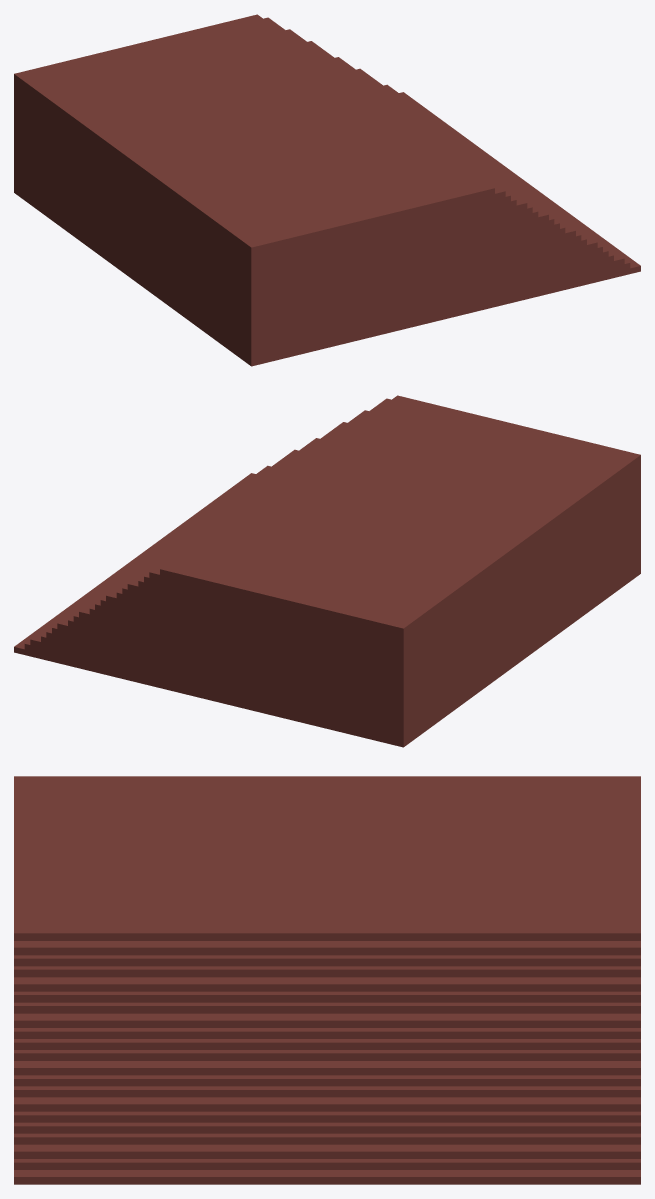
Rendered from semi_tractor_fairing.glb.
The picture shows the model from 3 angles, top to bottom: view 1: azimuth 30°, elevation 25°; view 2: azimuth 150°, elevation 25°; view 3: azimuth 270°, elevation 25°; orthographic projection. The views are drawn at different scales.
Visible parts, largest first — view 1: body:compound; view 2: body:compound; view 3: body:compound.
Part boxes in pixels (box(x1,y1,x2,y2)): body:compound: box(14, 14, 640, 366); body:compound: box(14, 395, 640, 747); body:compound: box(14, 776, 640, 1184).
Size of the model in its own units: 2.25 by 0.6562 by 2.38.
